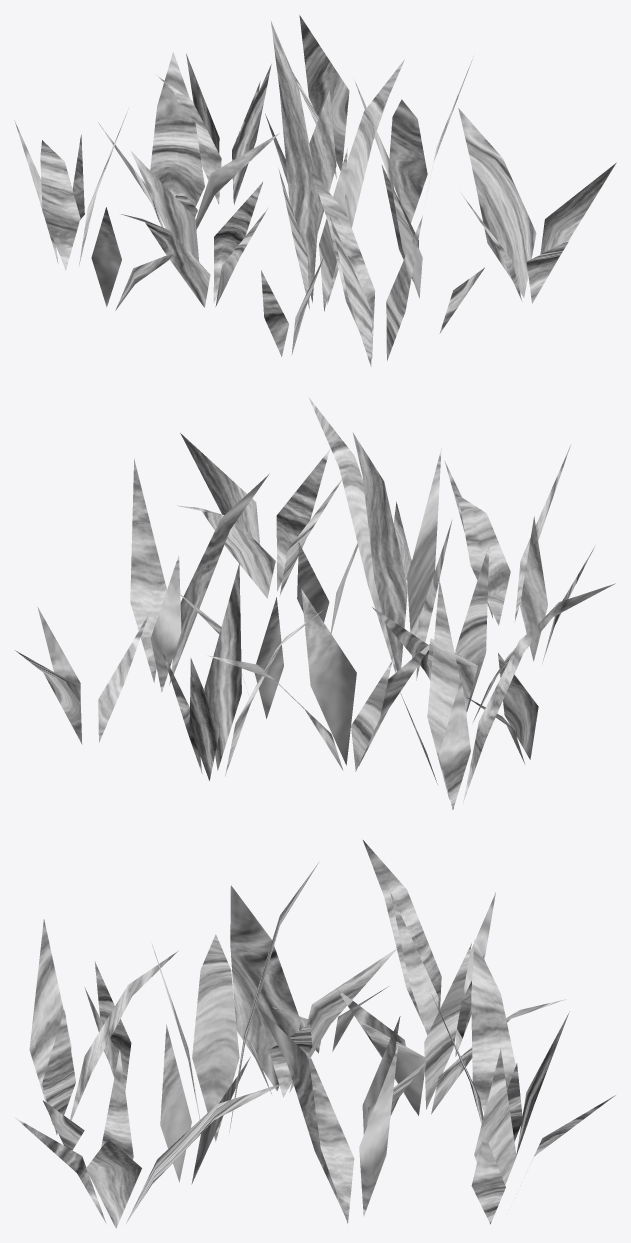
Rendered from SM_Grass.fbx.
3 views of the same model, one above another, from view 1: azimuth 30°, elevation 25°; view 2: azimuth 150°, elevation 25°; view 3: azimuth 270°, elevation 25° (orthographic). The views are drawn at different scales.
Visible parts, largest first — view 1: SM_Grass_LOD0; view 2: SM_Grass_LOD0; view 3: SM_Grass_LOD0.
Part boxes in pixels (x1,y1,x2,y2): SM_Grass_LOD0: [14, 15, 616, 366]; SM_Grass_LOD0: [15, 397, 615, 809]; SM_Grass_LOD0: [15, 840, 615, 1228].
Size of the model in its own units: 62.27 by 64.64 by 32.8.
1 material, 1 textured.
